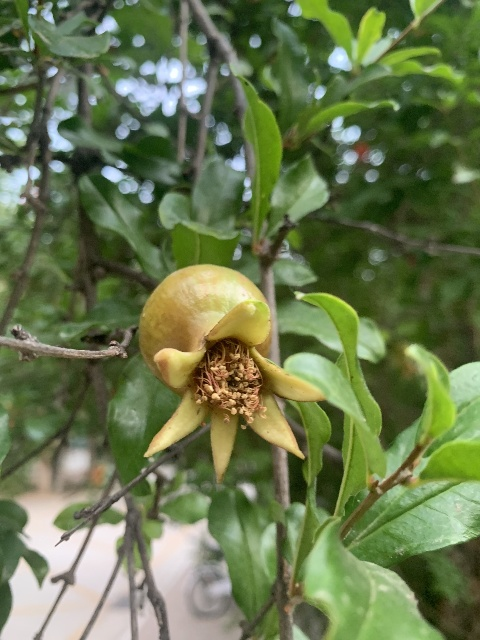mid-growth: (137, 262, 326, 482)
